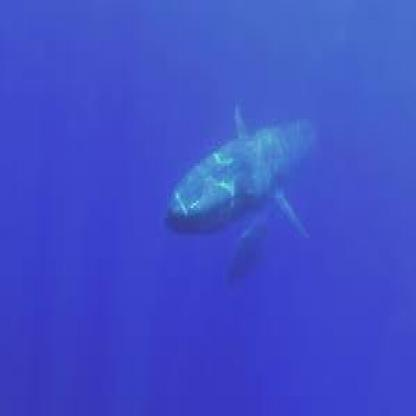blue_whale: (159, 69, 349, 322)
